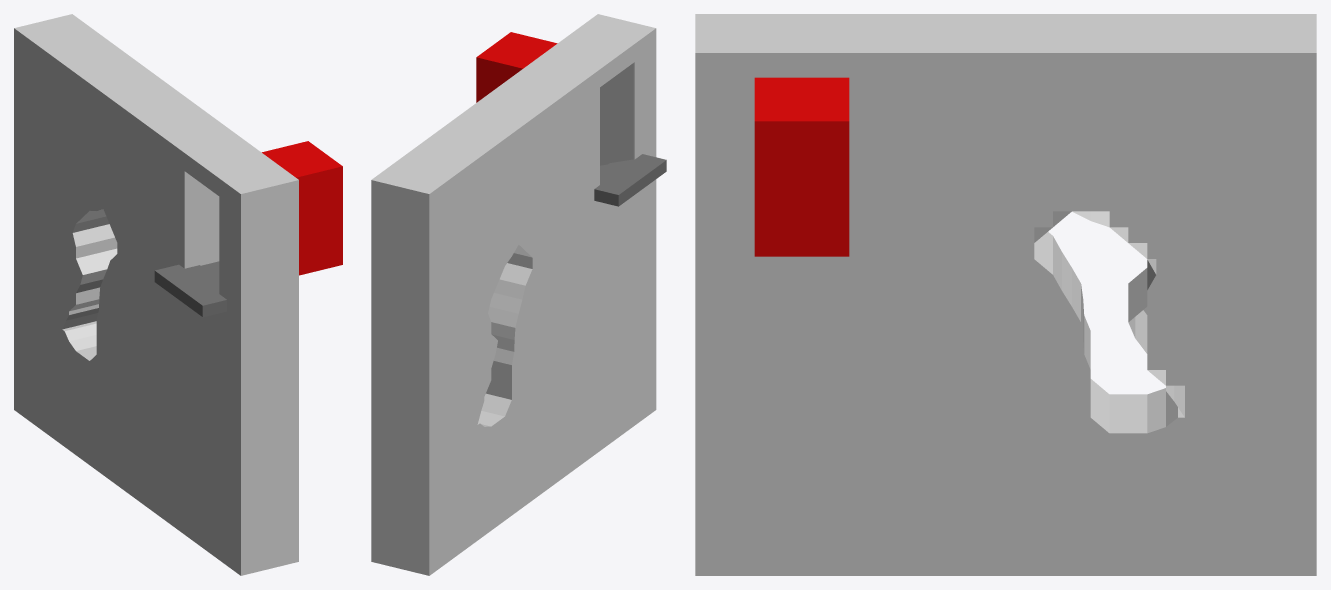
Rendered from backdrop old.fbx.
The picture shows the model from 3 angles, left to right: view 1: azimuth 30°, elevation 25°; view 2: azimuth 150°, elevation 25°; view 3: azimuth 270°, elevation 25°; orthographic projection. The views are drawn at different scales.
Visible parts, largest first — view 1: Cube.002, Cube.001; view 2: Cube.002, Cube.001; view 3: Cube.002, Cube.001.
Boxes of the visible parts, box(x1,y1,x2,y2) form: Cube.002: box(14, 14, 298, 575); Cube.001: box(262, 141, 342, 275); Cube.002: box(371, 14, 666, 575); Cube.001: box(476, 32, 557, 102); Cube.002: box(695, 14, 1316, 575); Cube.001: box(754, 77, 849, 256).
Size of the model in its own units: 718 by 1772 by 1907.
